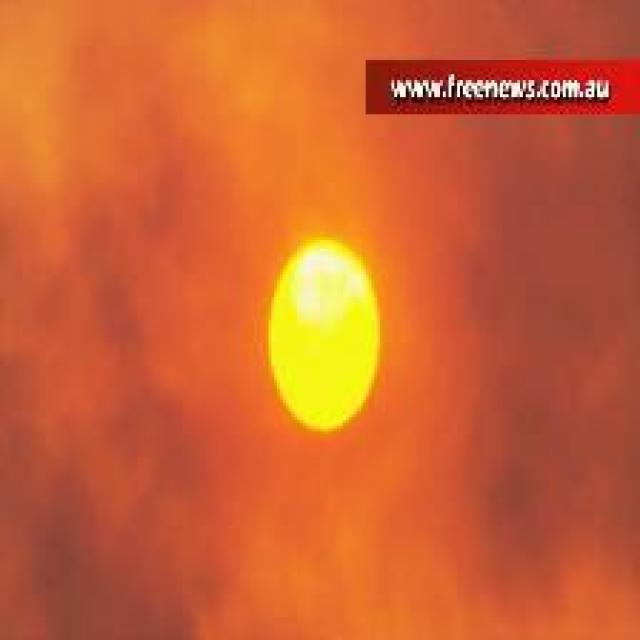other: (232, 209, 446, 448)
